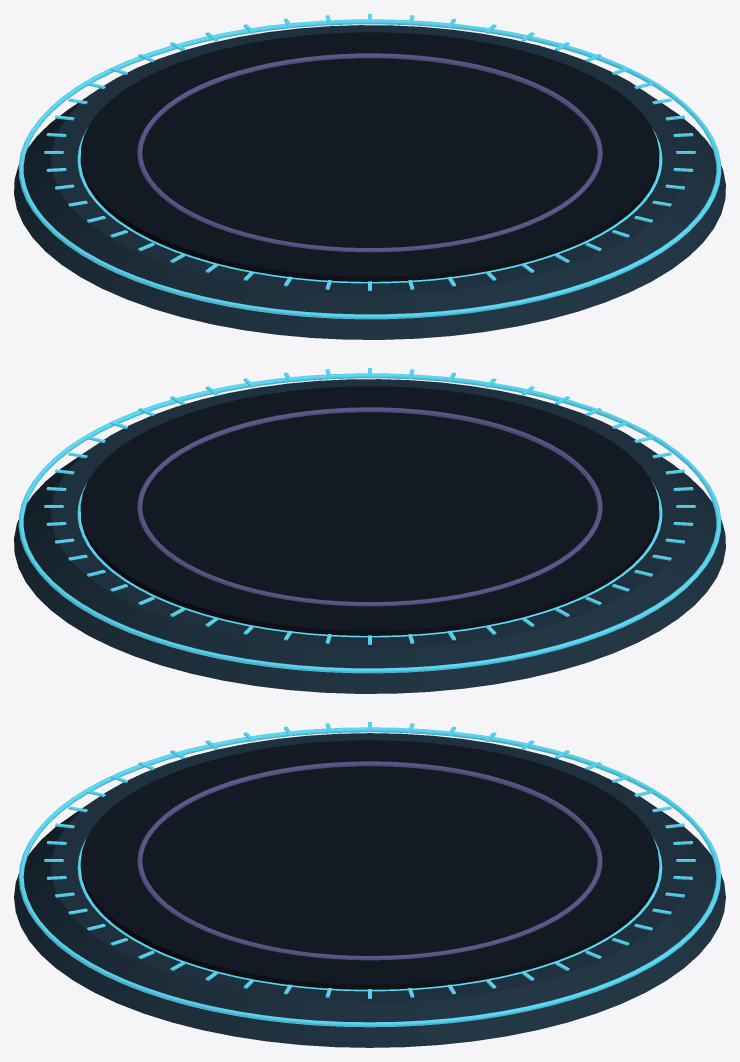
Rendered from 01_central_stage.glb.
3 views of the same model, one above another, from view 1: azimuth 30°, elevation 25°; view 2: azimuth 150°, elevation 25°; view 3: azimuth 270°, elevation 25° (orthographic).
Parts seen in each view (by area): view 1: 01_CENTRAL_STAGE; view 2: 01_CENTRAL_STAGE; view 3: 01_CENTRAL_STAGE.
Boxes of the visible parts, left/top/right/bottom form: 01_CENTRAL_STAGE: left=14, top=14, right=725, bottom=339; 01_CENTRAL_STAGE: left=14, top=368, right=725, bottom=693; 01_CENTRAL_STAGE: left=14, top=722, right=725, bottom=1047.
Size of the model in its own units: 4.8 by 0.2871 by 4.8.
